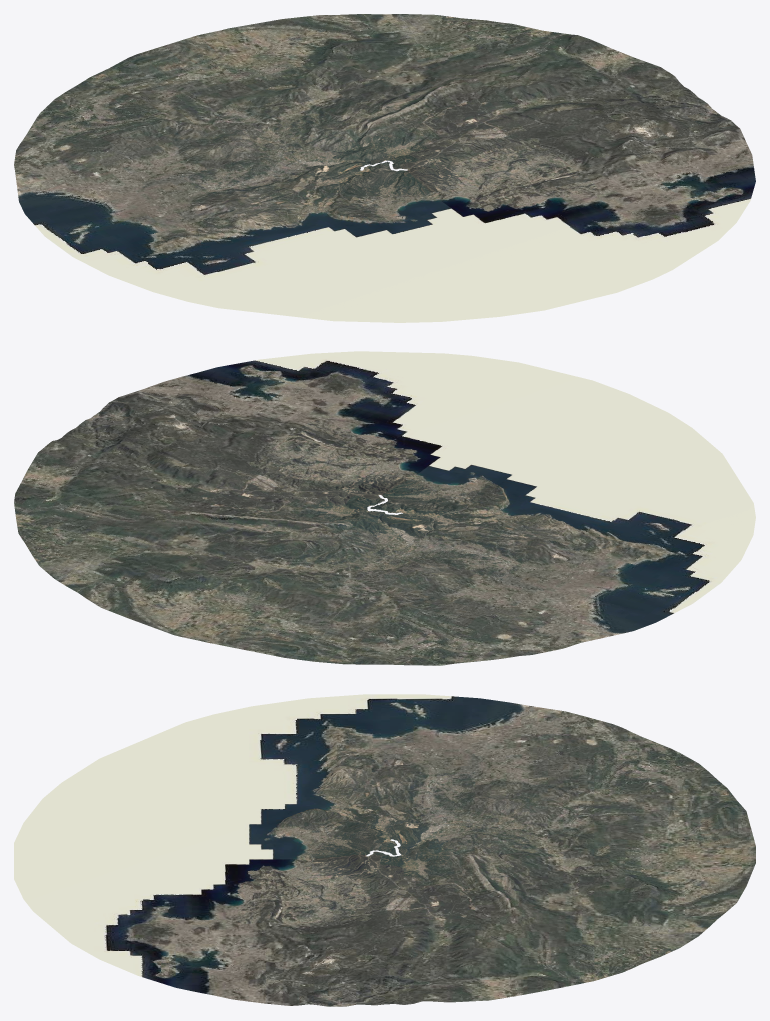
File: lointain.glb
3 renders of one model, top to bottom at view 1: azimuth 30°, elevation 25°; view 2: azimuth 150°, elevation 25°; view 3: azimuth 270°, elevation 25°, orthographic.
Visible parts, largest first — view 1: lointain_5km_890000_6250000, lointain_5km_935000_6230000, lointain_5km_925000_6240000, lointain_5km_930000_6230000, lointain_5km_920000_6245000, lointain_5km_930000_6240000, lointain_5km_890000_6225000, lointain_5km_935000_6235000, lointain_5km_930000_6235000, lointain_5km_910000_6265000, lointain_5km_900000_6255000, lointain_5km_935000_6245000 (+115 smaller); view 2: lointain_5km_915000_6250000, lointain_5km_925000_6265000, lointain_5km_920000_6265000, lointain_5km_935000_6250000, lointain_5km_920000_6250000, lointain_5km_895000_6240000, lointain_5km_925000_6255000, lointain_5km_890000_6225000, lointain_5km_930000_6250000, lointain_5km_910000_6265000, lointain_5km_885000_6245000, lointain_5km_930000_6255000 (+114 smaller); view 3: lointain_5km_925000_6265000, lointain_5km_890000_6225000, lointain_5km_890000_6230000, lointain_5km_930000_6225000, lointain_5km_940000_6250000, lointain_5km_905000_6250000, lointain_5km_910000_6265000, lointain_5km_905000_6265000, lointain_5km_905000_6255000, lointain_5km_935000_6250000, lointain_5km_930000_6255000, lointain_5km_885000_6245000 (+116 smaller).
Part boxes in pixels (x1,y1,x2,y2): lointain_5km_890000_6250000: [46, 165, 131, 201]; lointain_5km_935000_6230000: [623, 139, 702, 177]; lointain_5km_925000_6240000: [463, 118, 541, 156]; lointain_5km_930000_6230000: [572, 150, 654, 188]; lointain_5km_920000_6245000: [383, 109, 461, 143]; lointain_5km_930000_6240000: [514, 105, 591, 142]; lointain_5km_890000_6225000: [195, 275, 278, 309]; lointain_5km_935000_6235000: [591, 116, 670, 150]; lointain_5km_930000_6235000: [542, 129, 621, 166]; lointain_5km_910000_6265000: [163, 51, 247, 87]; lointain_5km_900000_6255000: [123, 118, 202, 153]; lointain_5km_935000_6245000: [532, 72, 614, 105]; lointain_5km_915000_6250000: [267, 521, 347, 563]; lointain_5km_925000_6265000: [74, 567, 159, 604]; lointain_5km_920000_6265000: [132, 576, 208, 616]; lointain_5km_935000_6250000: [61, 474, 144, 512]; lointain_5km_920000_6250000: [215, 513, 296, 548]; lointain_5km_895000_6240000: [533, 535, 612, 573]; lointain_5km_925000_6255000: [131, 521, 216, 558]; lointain_5km_890000_6225000: [673, 485, 753, 521]; lointain_5km_930000_6250000: [110, 487, 194, 522]; lointain_5km_910000_6265000: [226, 606, 315, 640]; lointain_5km_885000_6245000: [608, 586, 688, 622]; lointain_5km_930000_6255000: [82, 512, 163, 545]; lointain_5km_925000_6265000: [651, 890, 717, 923]; lointain_5km_890000_6225000: [175, 722, 241, 750]; lointain_5km_890000_6230000: [233, 722, 299, 750]; lointain_5km_930000_6225000: [175, 923, 241, 951]; lointain_5km_940000_6250000: [471, 968, 545, 996]; lointain_5km_905000_6250000: [475, 792, 536, 822]; lointain_5km_910000_6265000: [651, 819, 717, 848]; lointain_5km_905000_6265000: [651, 794, 717, 824]; lointain_5km_905000_6255000: [533, 792, 594, 821]; lointain_5km_935000_6250000: [471, 939, 537, 970]; lointain_5km_930000_6255000: [533, 918, 594, 947]; lointain_5km_885000_6245000: [413, 698, 479, 725].
Bounding box in the file's own units: 62400 × 1169 × 62400.
282 materials, 282 textured.
